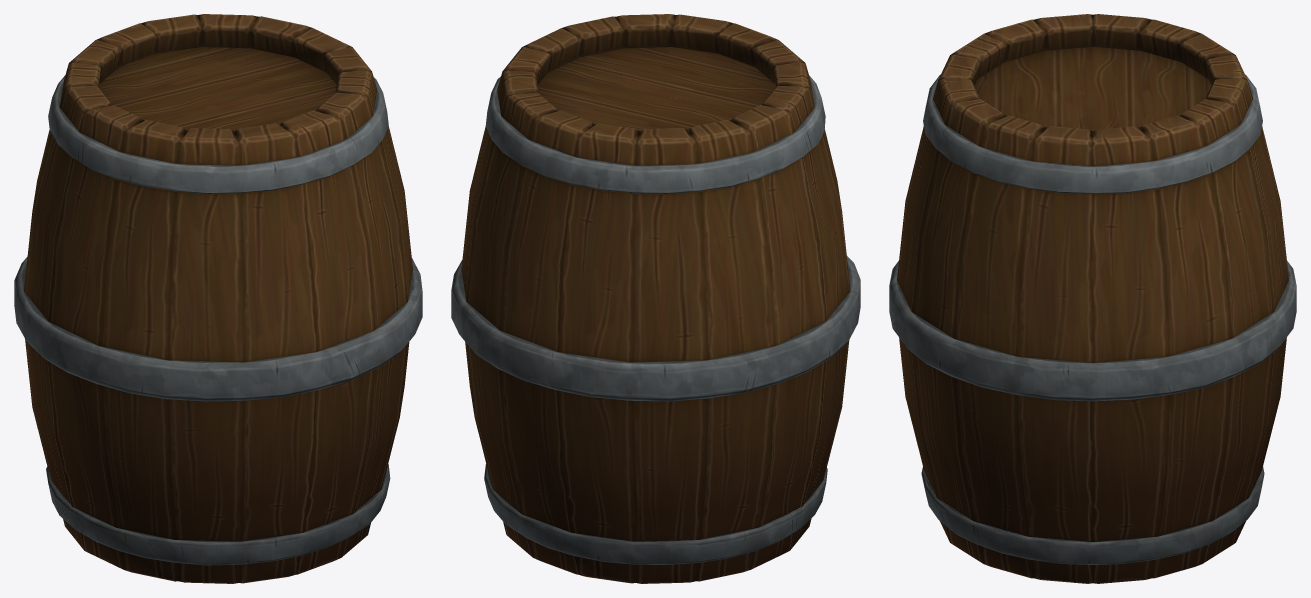
File: SM_Barrel.fbx
The picture shows the model from 3 angles, left to right: view 1: azimuth 30°, elevation 25°; view 2: azimuth 150°, elevation 25°; view 3: azimuth 270°, elevation 25°; orthographic projection.
Visible parts, largest first — view 1: SM_Barrel_LOD0; view 2: SM_Barrel_LOD0; view 3: SM_Barrel_LOD0.
Part boxes in pixels (x1,y1,x2,y2): SM_Barrel_LOD0: [14, 14, 422, 583]; SM_Barrel_LOD0: [451, 14, 860, 583]; SM_Barrel_LOD0: [889, 14, 1296, 583].
Size of the model in its own units: 72.43 by 72.43 by 87.18.
Materials: 1 (1 with a texture image).
